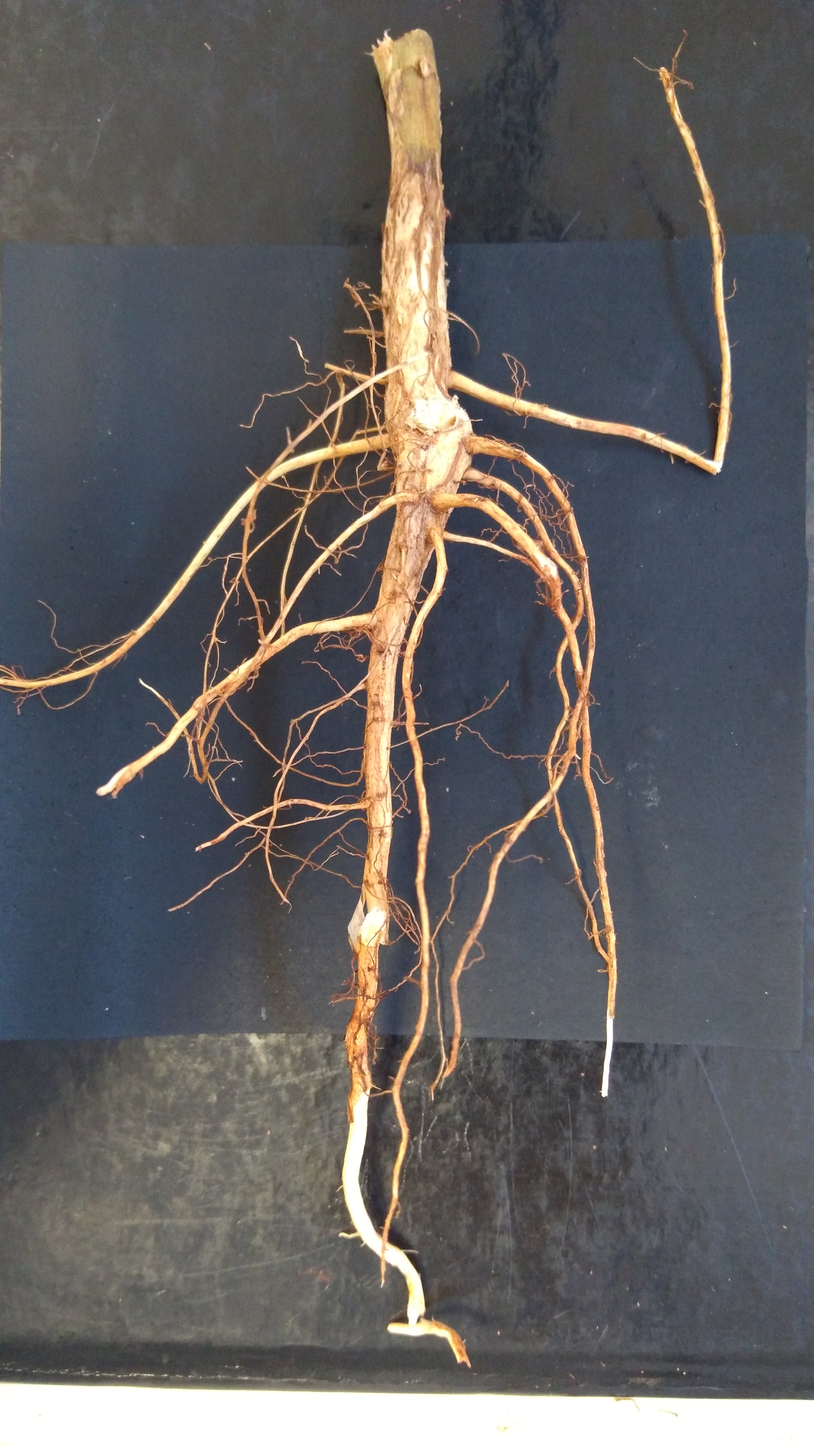nodule: (425, 407, 472, 490), (406, 397, 458, 433), (517, 539, 545, 553), (379, 460, 390, 472), (241, 521, 246, 526)
